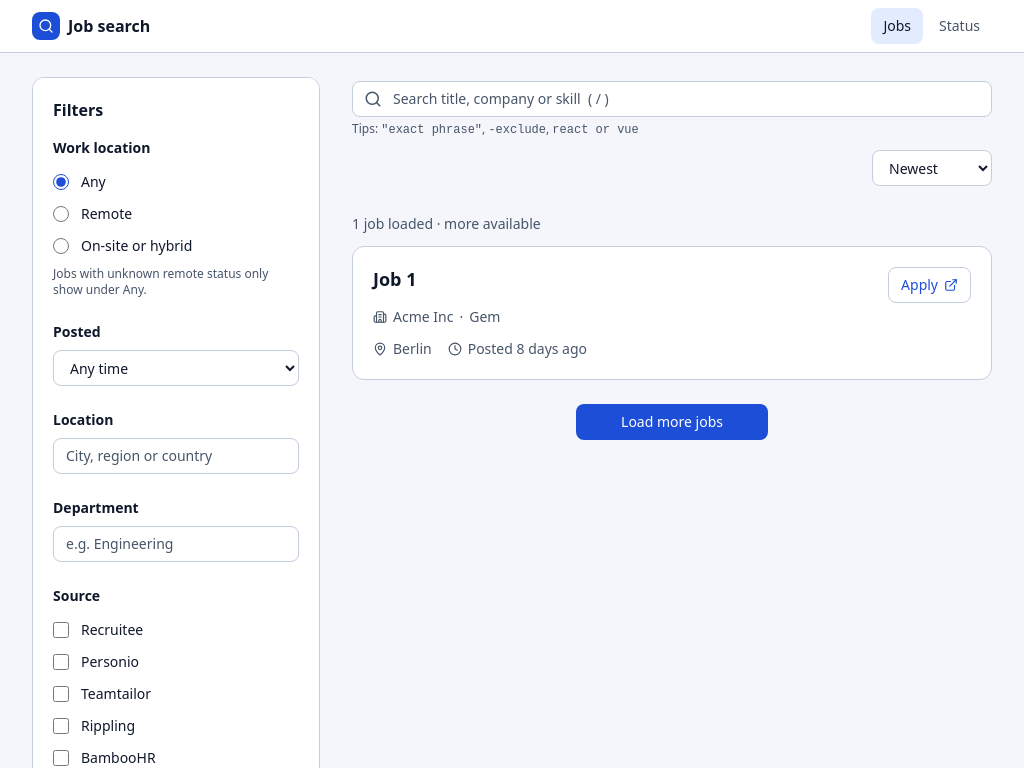
Scenario: search page › Load more follows next_cursor and appends; the last page says so
Check: the link "Job 1" is shown, box [373,267,416,291]
Check: the message shows "more available", box [433,214,541,233]
Click the button "Load more jobs". click: (672,422)
box: [576,404,768,440]
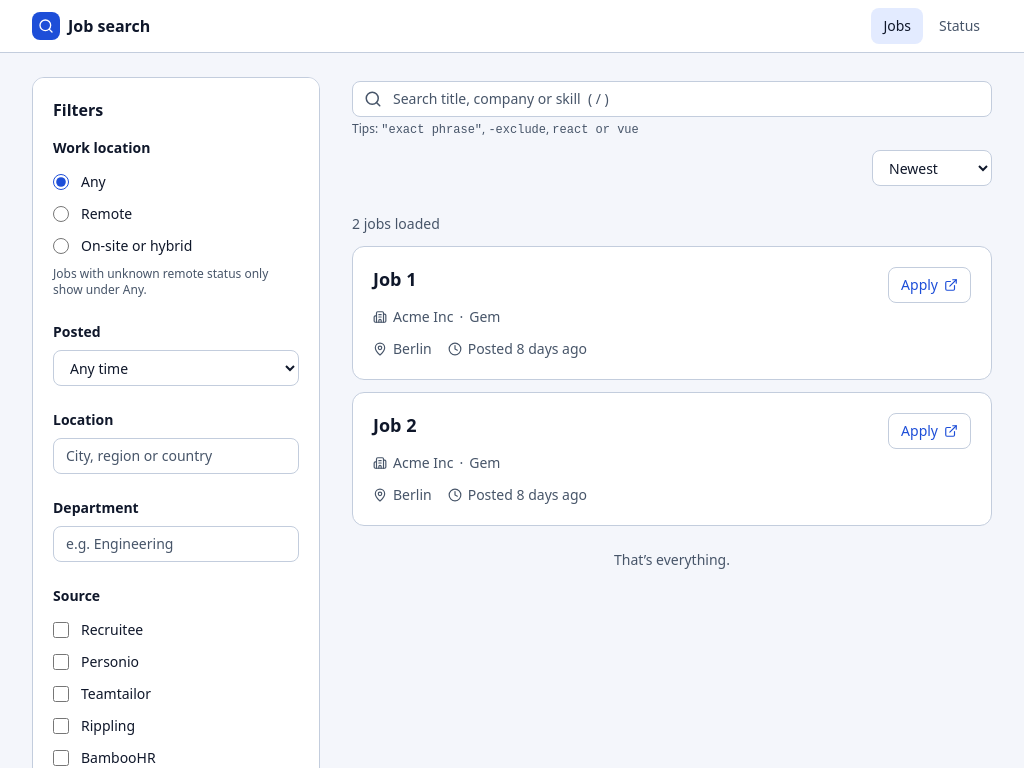
Check: the link "Job 2" is shown, box [373,413,416,437]
Check: the button "Load more jobs" is gone
Check: the text "That’s everything." is shown, box [614,550,730,570]
